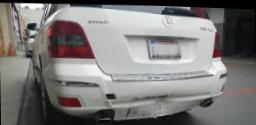Bumper: (121, 88, 172, 117)
